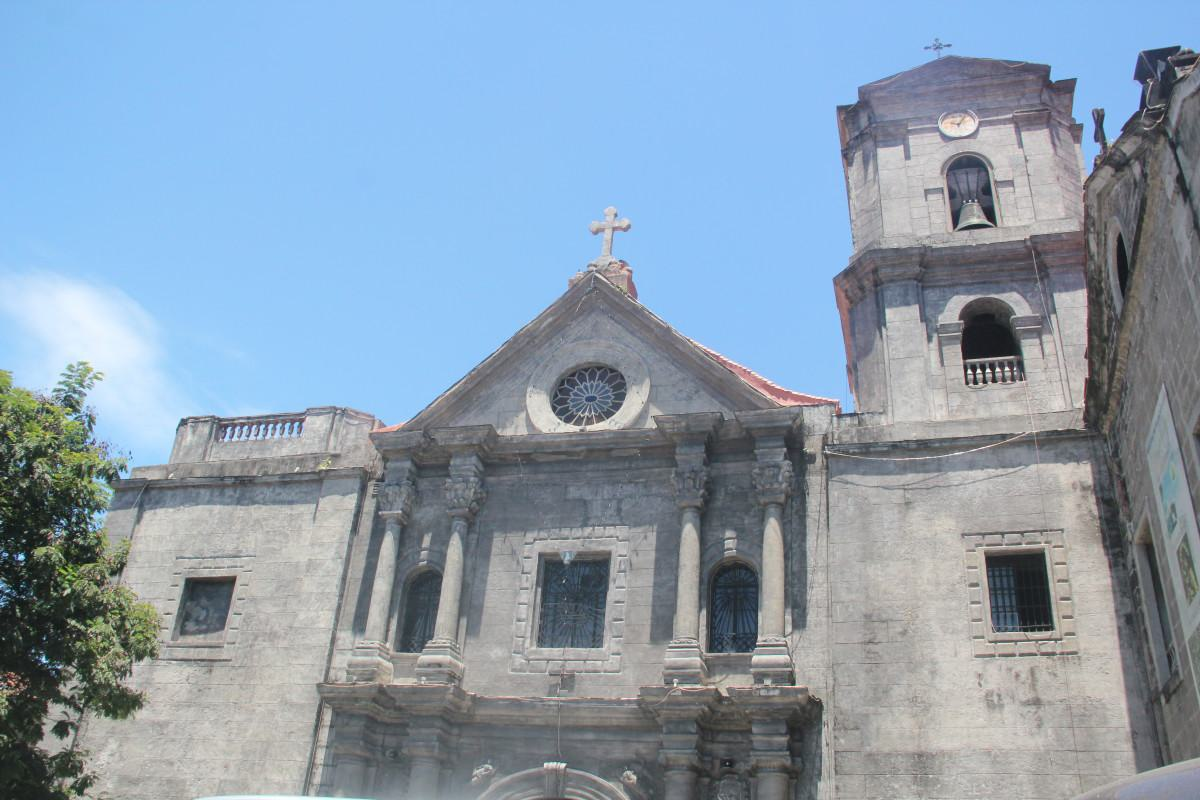san_agustin_church_intramuros_manila: (348, 1, 1139, 800)
